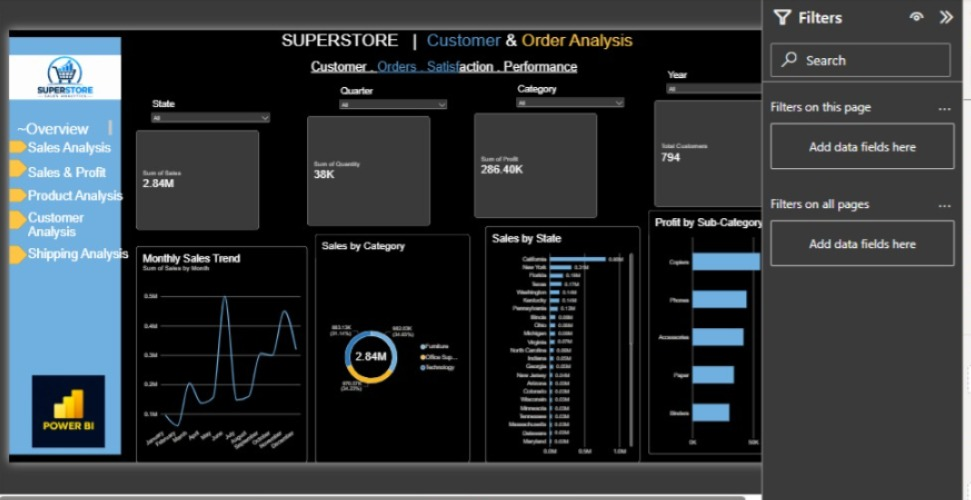

What the dashboard file says about the page in this screenshot:
{"tool":"powerbi","page":{"name":"Page 4","canvas":[1920,1080],"ordinal":3},"visuals":[{"type":"shape","box":[0,17.6,279.7,1043.1],"z":0},{"type":"textbox","box":[564.4,0,1108.7,73.1],"z":1},{"type":"textbox","box":[657.6,73.1,859.2,65.5],"z":2},{"type":"slicer","fields":{"Values":["order id.Order Date.Variation.Date Hierarchy.Year"]},"box":[1637.8,98.3,282.2,68],"z":3},{"type":"slicer","fields":{"Values":["order id.Category"]},"box":[1262.4,133.5,279.7,65.5],"z":4},{"type":"slicer","fields":{"Values":["order id.Order Date.Variation.Date Hierarchy.Quarter"]},"box":[818.9,138.6,279.7,60.5],"z":5},{"type":"slicer","fields":{"Values":["order id.State"]},"box":[350.2,168.8,307.4,80.6],"z":6},{"type":"cardVisual","fields":{"Data":["Sum(order id.Sales)"]},"box":[317.5,249.4,307.4,249.4],"z":7},{"type":"cardVisual","fields":{"Data":["Sum(order id.Quantity)"]},"box":[745.8,214.2,307.4,274.6],"z":8},{"type":"cardVisual","fields":{"Data":["Sum(order id.Profit)"]},"box":[1161.6,206.6,307.4,262],"z":9},{"type":"cardVisual","fields":{"Data":["order id.Total Customers"]},"box":[1612.6,173.9,307.4,267.1],"z":10},{"type":"image","box":[0,52.9,279.7,131],"z":11},{"type":"image","box":[22.7,861.7,252,181.4],"z":12},{"type":"textbox","box":[0,224.3,257,40.3],"z":13},{"type":"textbox","box":[47.9,274.6,226.8,63],"z":14},{"type":"textbox","box":[47.9,337.6,226.8,58],"z":15},{"type":"lineChart","title":"Monthly Sales Trend","fields":{"Category":["order id.Order Date.Variation.Date Hierarchy.Month"],"Y":["Sum(order id.Sales)"]},"box":[317.5,539.2,428.3,541.7],"z":17},{"type":"donutChart","title":"Sales by Category","fields":{"Category":["order id.Category"],"Y":["Sum(order id.Sales)"]},"box":[766,509,385.5,572],"z":18},{"type":"barChart","title":" Profit by Sub-Category","fields":{"Category":["order id.Sub-Category"],"Y":["Sum(order id.Profit)"]},"box":[1597.5,451,322.5,609.8],"z":19},{"type":"clusteredBarChart","title":" Sales by State","fields":{"Category":["order id.State"],"Y":["Sum(order id.Sales)"]},"box":[1189.3,488.8,385.5,592.1],"z":20},{"type":"textbox","box":[47.9,395.6,252,55.4],"z":21},{"type":"textbox","box":[47.9,451,231.8,88.2],"z":22},{"type":"textbox","box":[47.9,539.2,252,88.2],"z":23},{"type":"shape","box":[0,274.6,47.9,32.8],"z":24},{"type":"shape","box":[0,322.5,47.9,45.4],"z":25},{"type":"shape","box":[0,395.6,47.9,35.3],"z":26},{"type":"shape","box":[0,451,47.9,47.9],"z":27},{"type":"shape","box":[0,536.7,47.9,47.9],"z":28}]}

Visuals, with their boxes on the page's 1920x1080 design canvas (x1, y1, x2, y2). These are canvas units, not pixel positions in the 971x500 screenshot, which may show the page scaled, cropped or inside an application window:
shape: pyautogui.locateOnScreen(0, 18, 280, 1061)
textbox: pyautogui.locateOnScreen(564, 0, 1673, 73)
textbox: pyautogui.locateOnScreen(658, 73, 1517, 139)
slicer - order id.Order Date.Variation.Date Hierarchy.Year: pyautogui.locateOnScreen(1638, 98, 1920, 166)
slicer - order id.Category: pyautogui.locateOnScreen(1262, 134, 1542, 199)
slicer - order id.Order Date.Variation.Date Hierarchy.Quarter: pyautogui.locateOnScreen(819, 139, 1099, 199)
slicer - order id.State: pyautogui.locateOnScreen(350, 169, 658, 249)
cardVisual - Sum(order id.Sales): pyautogui.locateOnScreen(318, 249, 625, 499)
cardVisual - Sum(order id.Quantity): pyautogui.locateOnScreen(746, 214, 1053, 489)
cardVisual - Sum(order id.Profit): pyautogui.locateOnScreen(1162, 207, 1469, 469)
cardVisual - order id.Total Customers: pyautogui.locateOnScreen(1613, 174, 1920, 441)
image: pyautogui.locateOnScreen(0, 53, 280, 184)
image: pyautogui.locateOnScreen(23, 862, 275, 1043)
textbox: pyautogui.locateOnScreen(0, 224, 257, 265)
textbox: pyautogui.locateOnScreen(48, 275, 275, 338)
textbox: pyautogui.locateOnScreen(48, 338, 275, 396)
"Monthly Sales Trend" lineChart: pyautogui.locateOnScreen(318, 539, 746, 1081)
"Sales by Category" donutChart: pyautogui.locateOnScreen(766, 509, 1152, 1081)
" Profit by Sub-Category" barChart: pyautogui.locateOnScreen(1598, 451, 1920, 1061)
" Sales by State" clusteredBarChart: pyautogui.locateOnScreen(1189, 489, 1575, 1081)
textbox: pyautogui.locateOnScreen(48, 396, 300, 451)
textbox: pyautogui.locateOnScreen(48, 451, 280, 539)
textbox: pyautogui.locateOnScreen(48, 539, 300, 627)
shape: pyautogui.locateOnScreen(0, 275, 48, 307)
shape: pyautogui.locateOnScreen(0, 322, 48, 368)
shape: pyautogui.locateOnScreen(0, 396, 48, 431)
shape: pyautogui.locateOnScreen(0, 451, 48, 499)
shape: pyautogui.locateOnScreen(0, 537, 48, 585)
